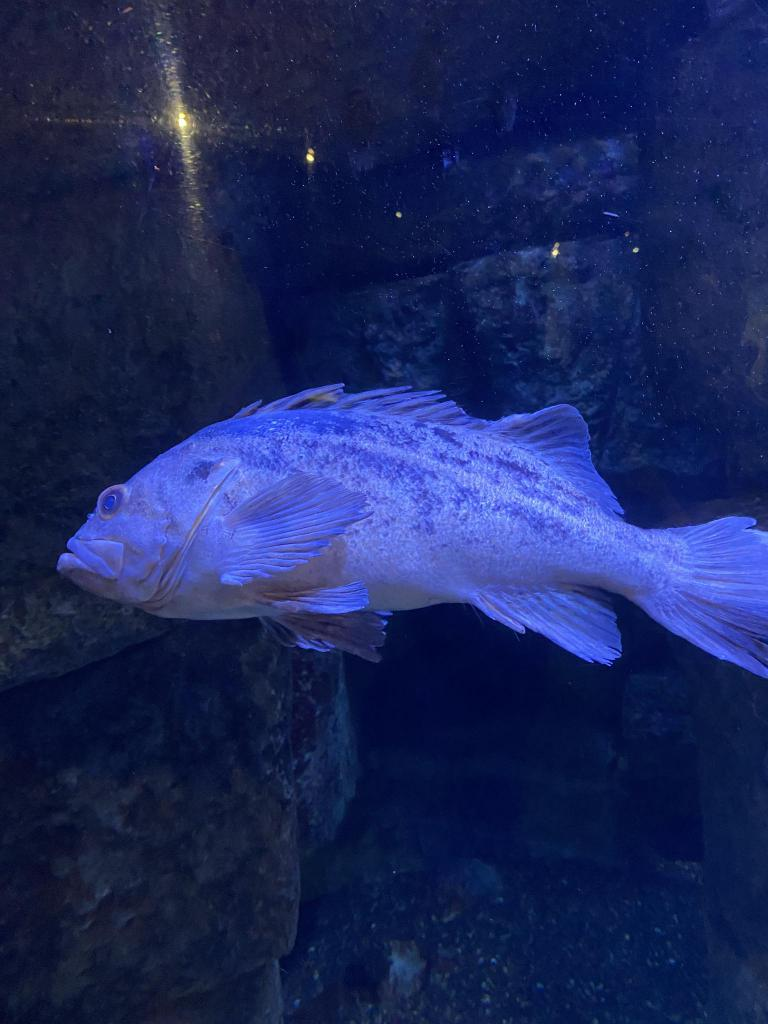fish: (56, 362, 760, 720)
